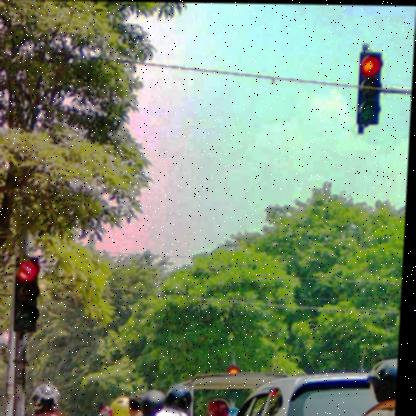Traffic Light -Red-: (16, 258, 45, 333), (357, 49, 384, 125)
